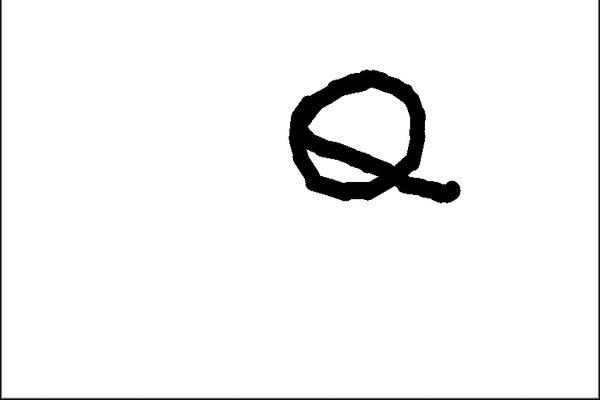Q: (277, 60, 447, 209)
